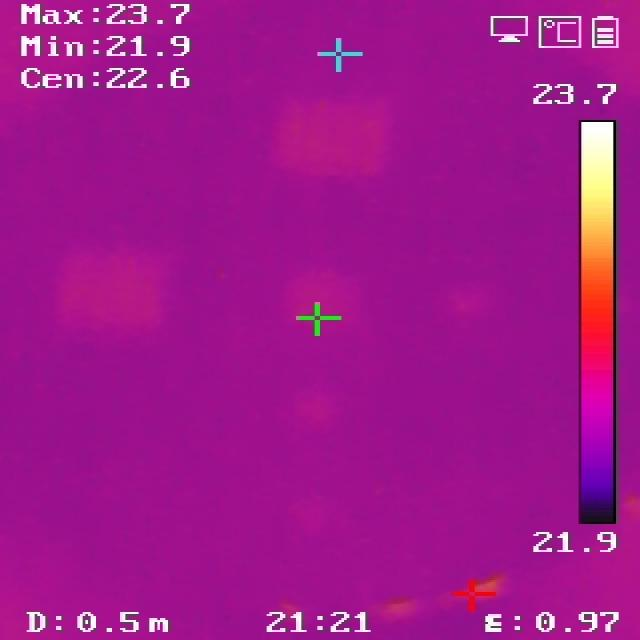Indistinguishable 4-bar target: (270, 90, 386, 175), (52, 246, 171, 326), (291, 269, 357, 323), (294, 386, 330, 419), (303, 502, 336, 530), (464, 286, 485, 304)
